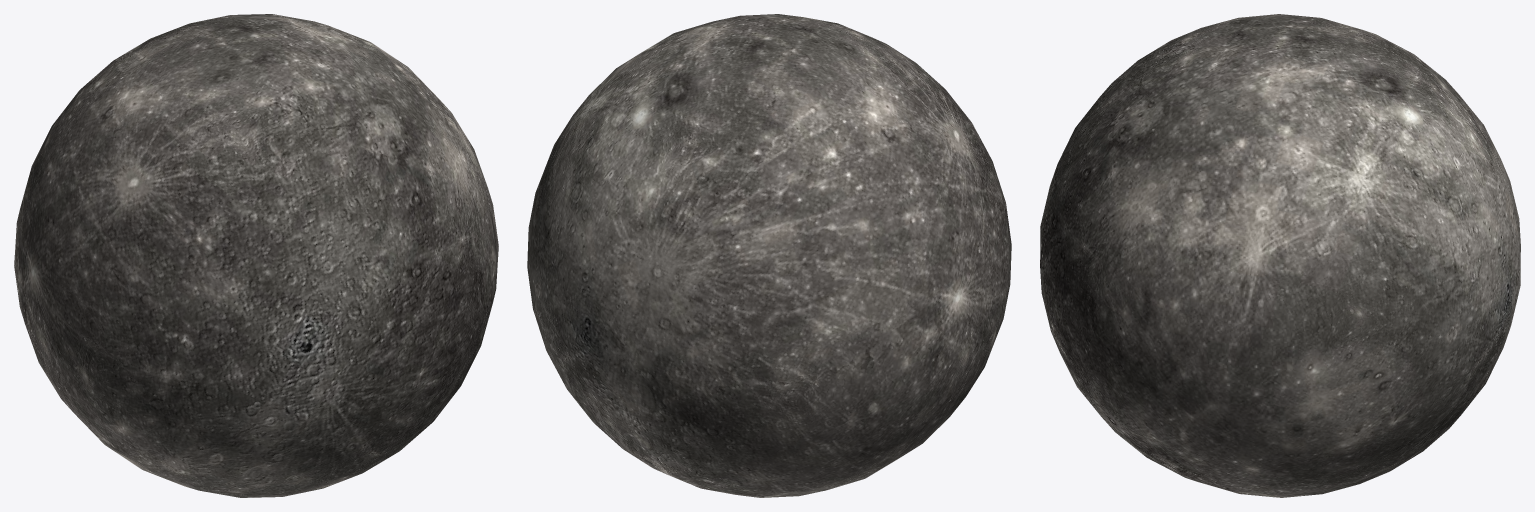
Rendered from Mercury.glb.
The picture shows the model from 3 angles, left to right: view 1: azimuth 30°, elevation 25°; view 2: azimuth 150°, elevation 25°; view 3: azimuth 270°, elevation 25°; orthographic projection.
Parts seen in each view (by area): view 1: Mercury; view 2: Mercury; view 3: Mercury.
Boxes of the visible parts, bbox=[...] form: Mercury: bbox=[14, 14, 498, 497]; Mercury: bbox=[527, 14, 1011, 497]; Mercury: bbox=[1040, 14, 1520, 497].
Bounding box in the file's own units: 0.00755 × 0.00754 × 0.0075.
1 material, 1 textured.
